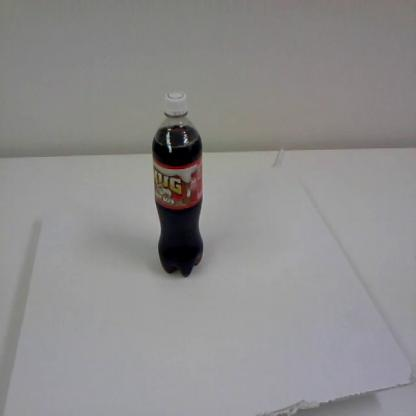bottle: (150, 88, 204, 279)
